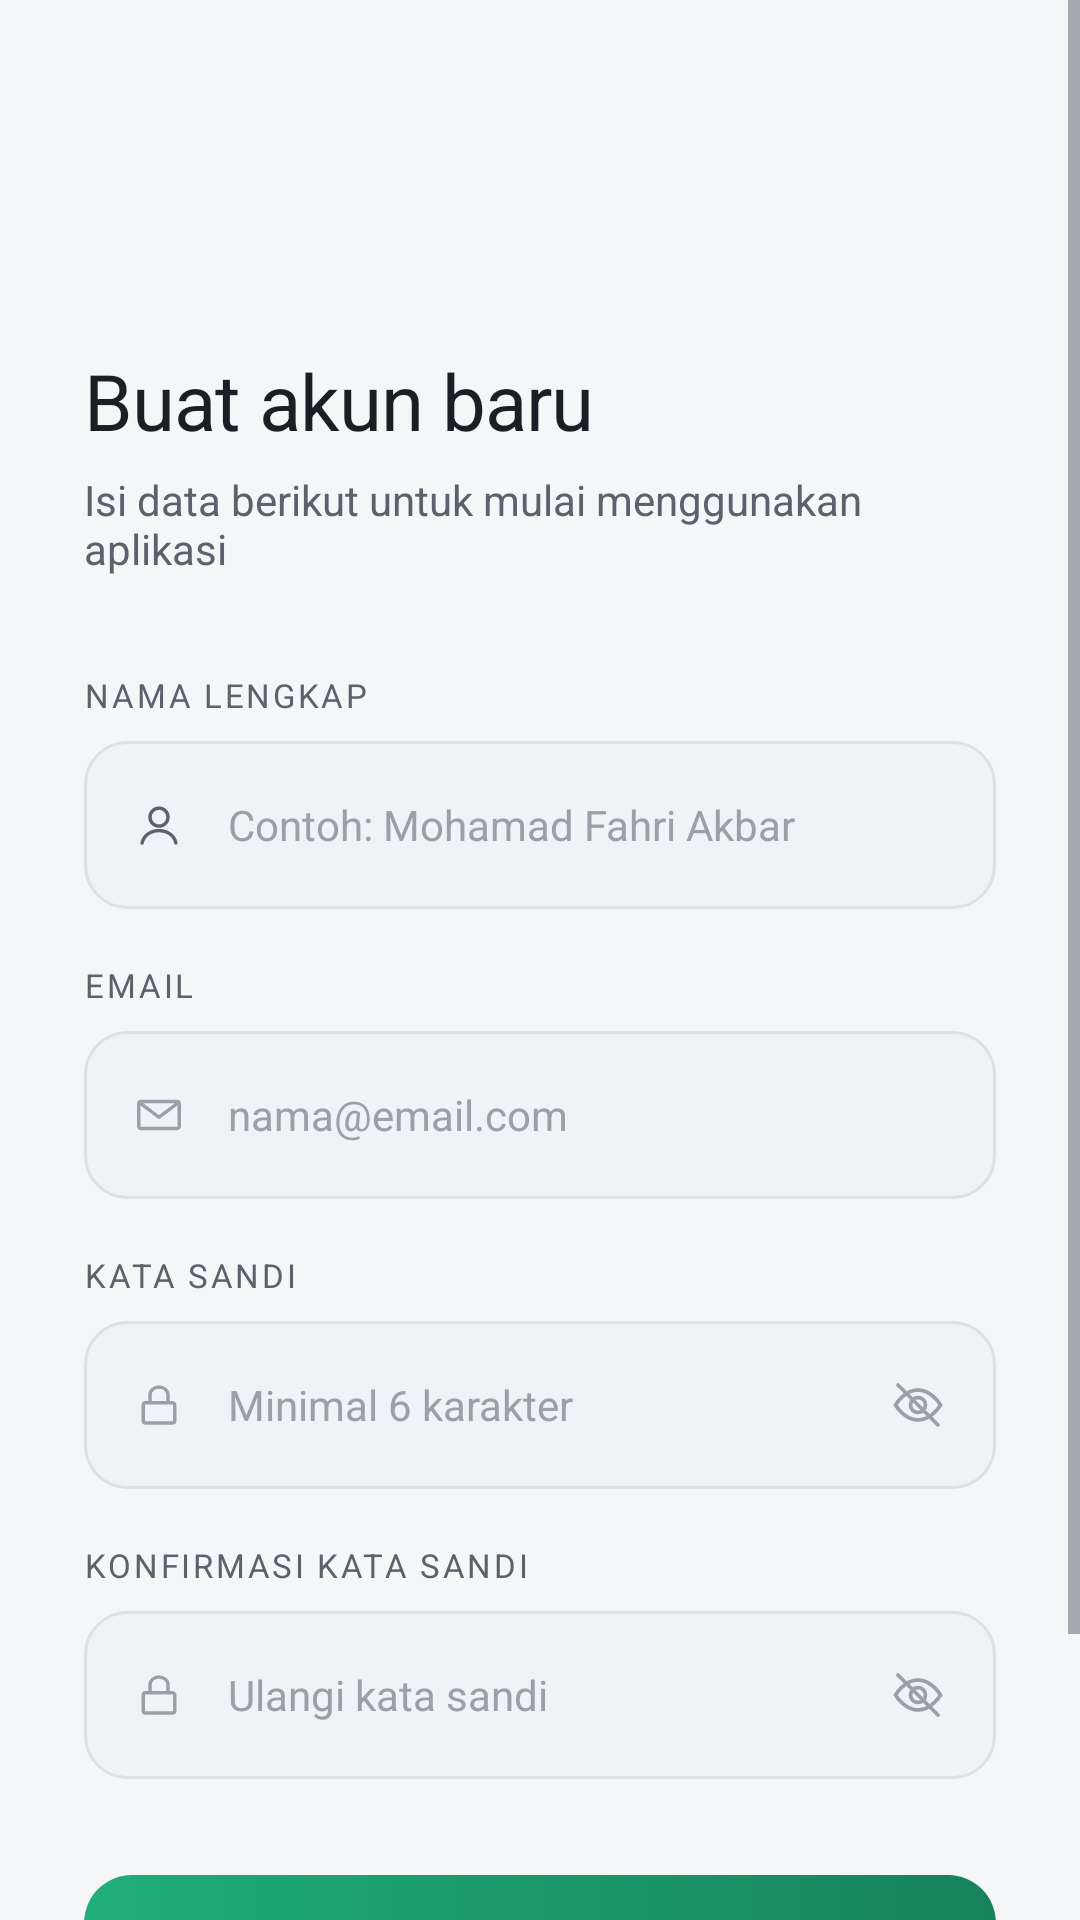

Point at icon controls on the screen. Image size 1080*1920, points as (x,y).
lock: (159,1405), (159,1695)
person: (159,825)
Tampilkan kata sandi: (918,1405)
Tampilkan konfirmasi kata sandi: (918,1695)
